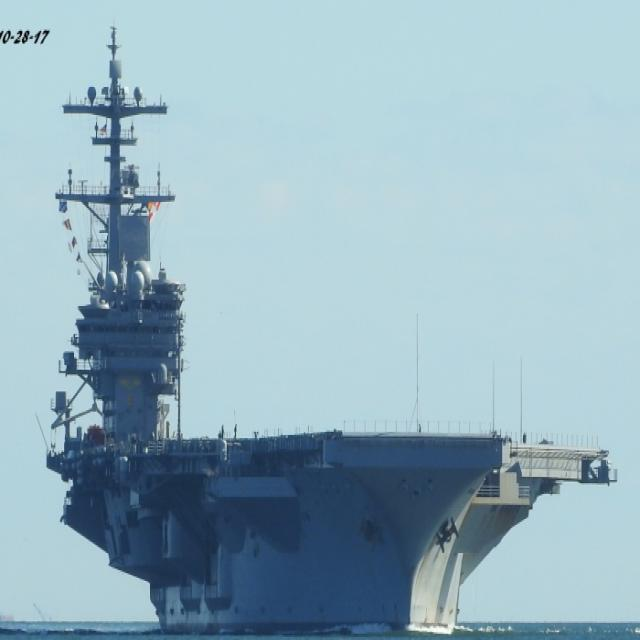Portanaves: (35, 24, 619, 640)
